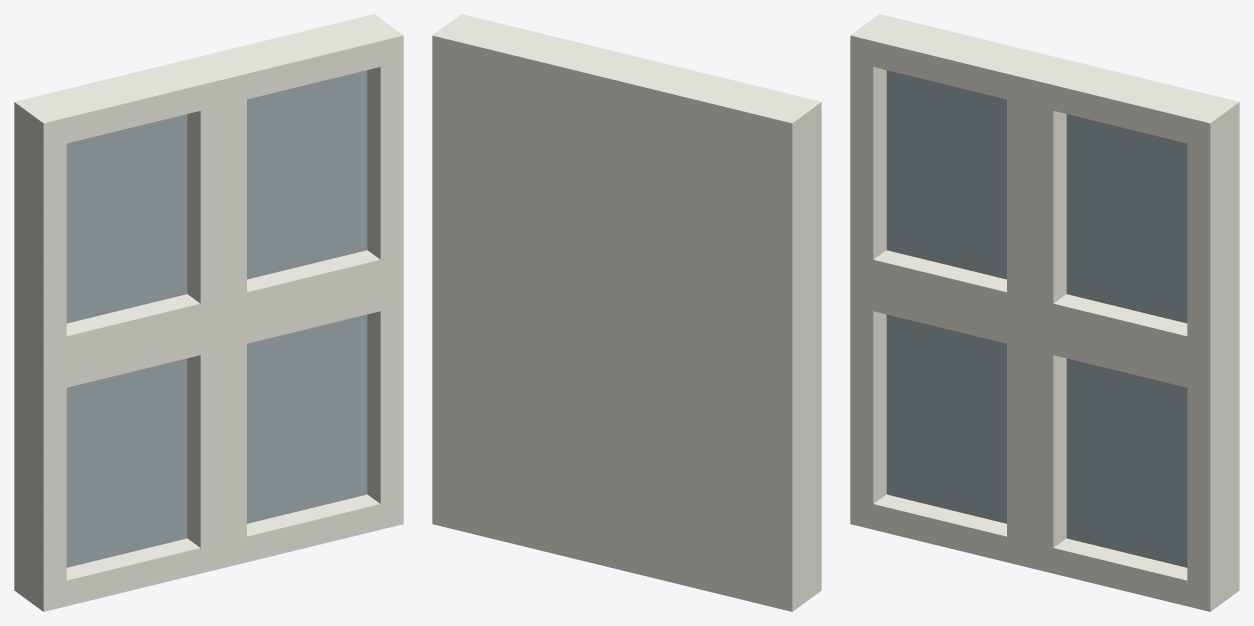
File: fbx_school_outdoor_window3.fbx
3 renders of one model, left to right at view 1: azimuth 30°, elevation 25°; view 2: azimuth 150°, elevation 25°; view 3: azimuth 330°, elevation 25°, orthographic.
Visible parts, largest first — view 1: fbx_school_outdoor_window3; view 2: fbx_school_outdoor_window3; view 3: fbx_school_outdoor_window3.
Boxes of the visible parts, left/top/right/bottom form: fbx_school_outdoor_window3: left=14, top=14, right=403, bottom=611; fbx_school_outdoor_window3: left=432, top=14, right=821, bottom=611; fbx_school_outdoor_window3: left=850, top=14, right=1239, bottom=611.
Bounding box in the file's own units: 0.5569 × 0.722 × 0.0788.
Materials: 1 (1 with a texture image).
